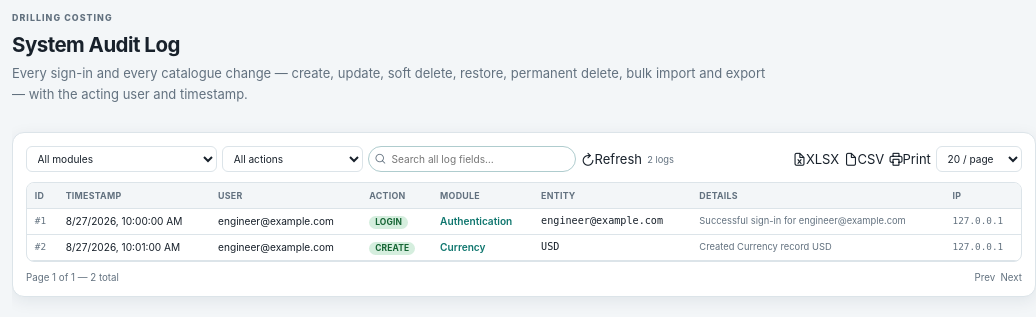
Scenario: Audit log page › searches across every log field, not only the entity code
Type "currency" into the search field with class "search__input" at (472, 159), box [368,146,576,172]
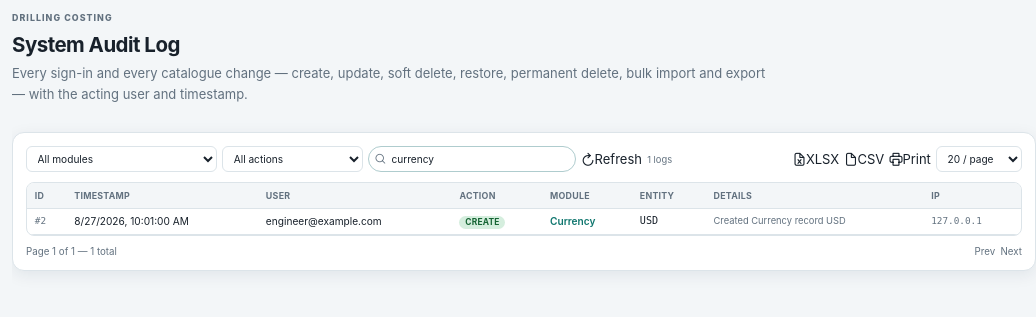
Expected: the table with class "audit-table" shows "USD", [640,215,658,226]
Expected: the text with class "audit-table" no longer shows "LOGIN"
